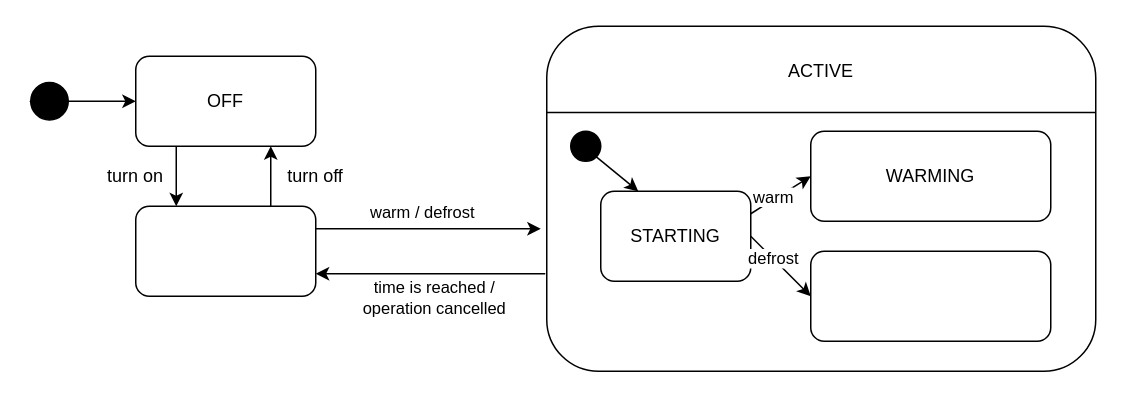
Some shapes in this 1125 by 398 pixel diagram are drawn without their labels. The centre of each missing label's shape, as x and y in pixels:
"DEFROSTING" goes at [930,295].
"ON" goes at [225,250].
